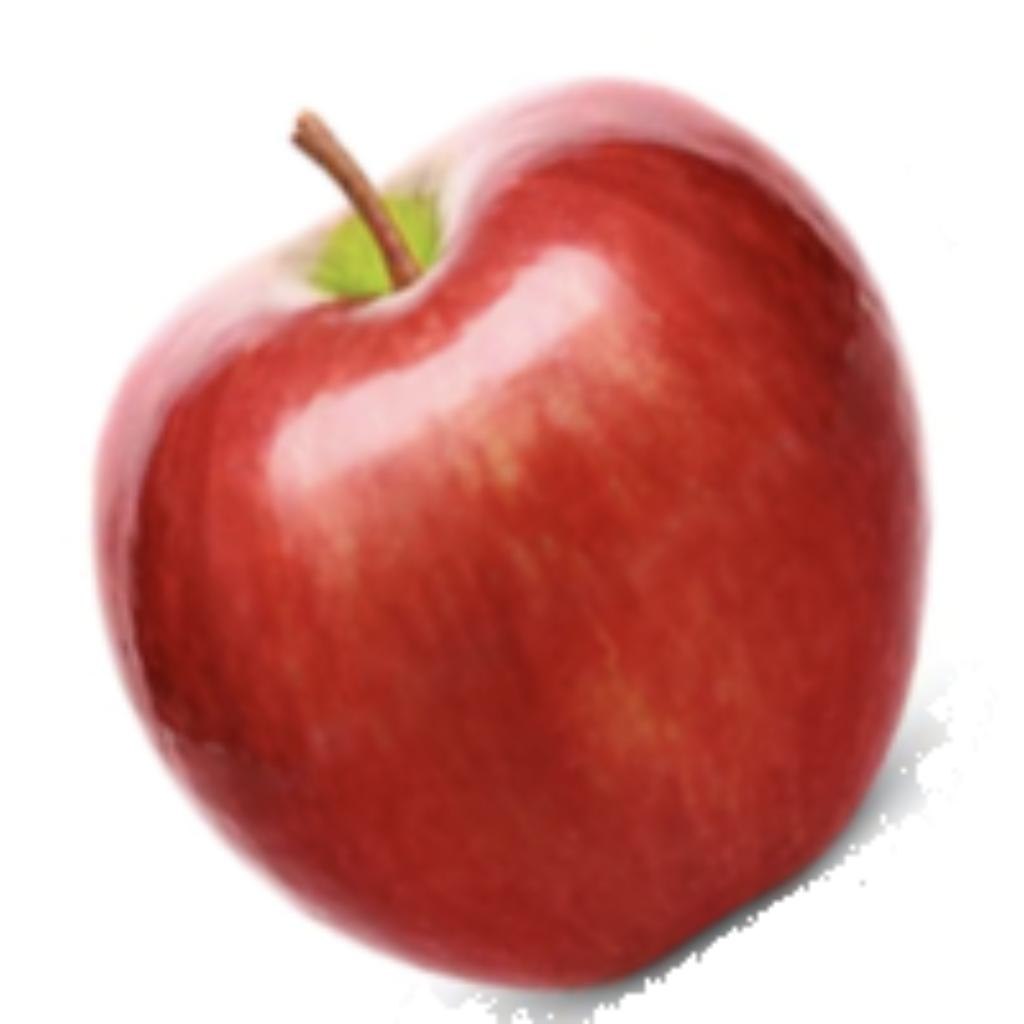apple: (82, 67, 957, 1019)
